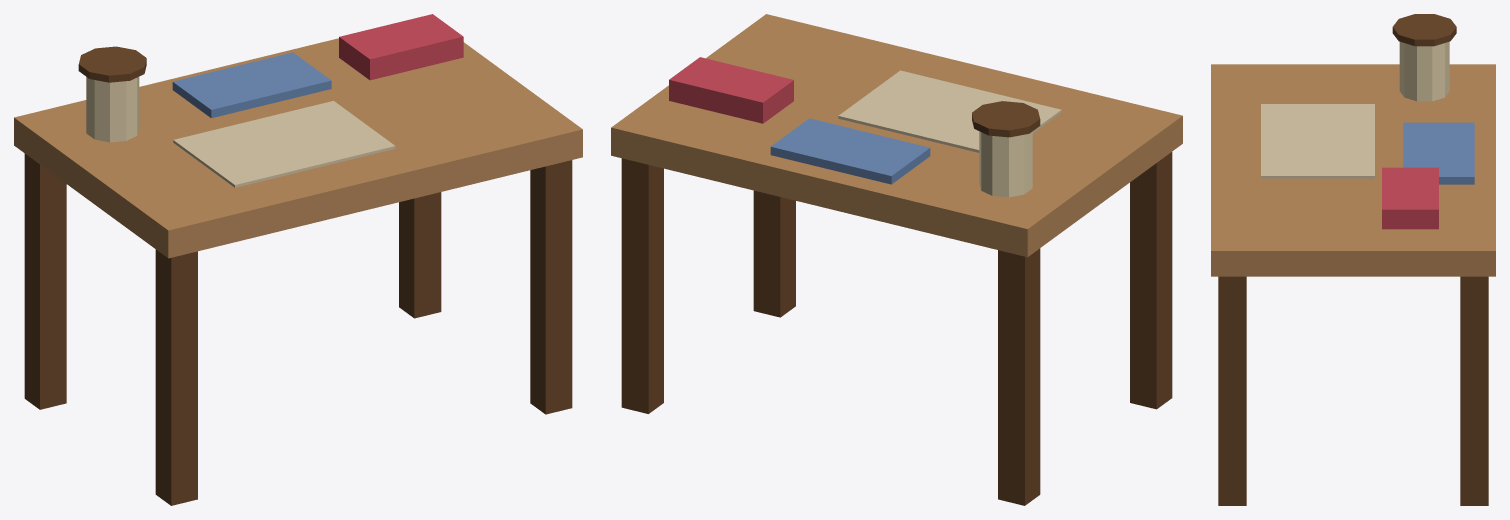
Rendered from SewingTable.fbx.
3 views of the same model, side by side, from view 1: azimuth 30°, elevation 25°; view 2: azimuth 150°, elevation 25°; view 3: azimuth 270°, elevation 25° (orthographic). The views are drawn at different scales.
Parts seen in each view (by area): view 1: SewingTable_Body; view 2: SewingTable_Body; view 3: SewingTable_Body.
Part boxes in pixels (x1,y1,x2,y2): SewingTable_Body: (14, 14, 582, 505); SewingTable_Body: (611, 14, 1182, 505); SewingTable_Body: (1211, 14, 1495, 505).
Bounding box in the file's own units: 0.62 × 0.5 × 0.4.
